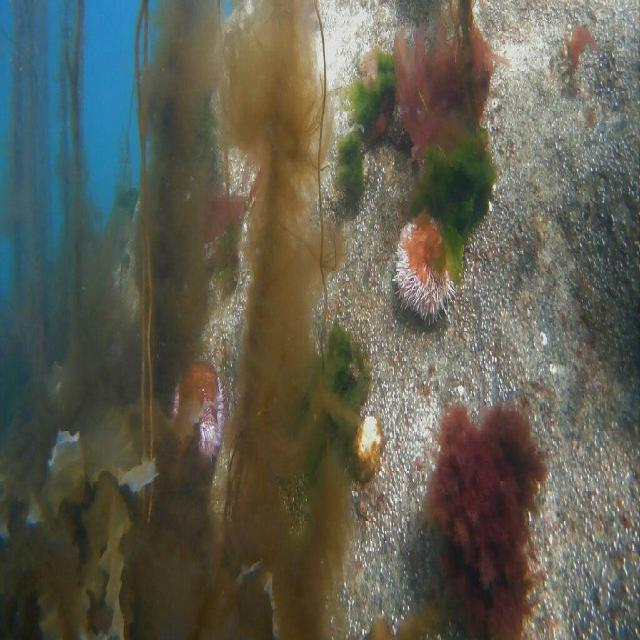Deniz Kestanesi: (392, 206, 457, 326), (171, 363, 224, 463)
